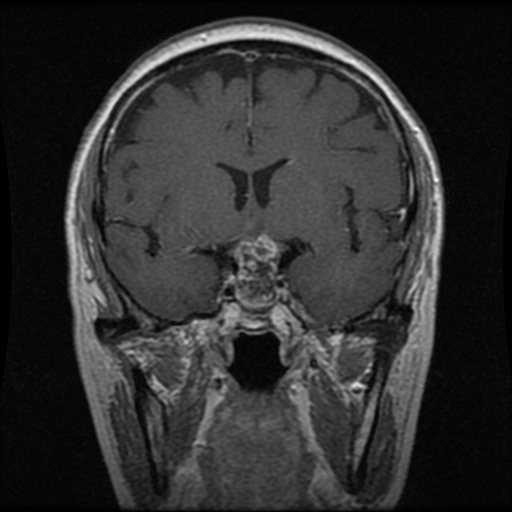pituitary: (235, 237, 277, 308)
